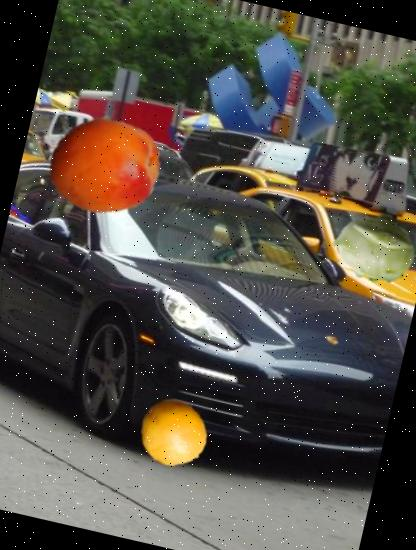Apricot: (36, 97, 172, 234)
Grapefruit: (132, 392, 216, 476)
Kohlrabi: (323, 195, 416, 297)
